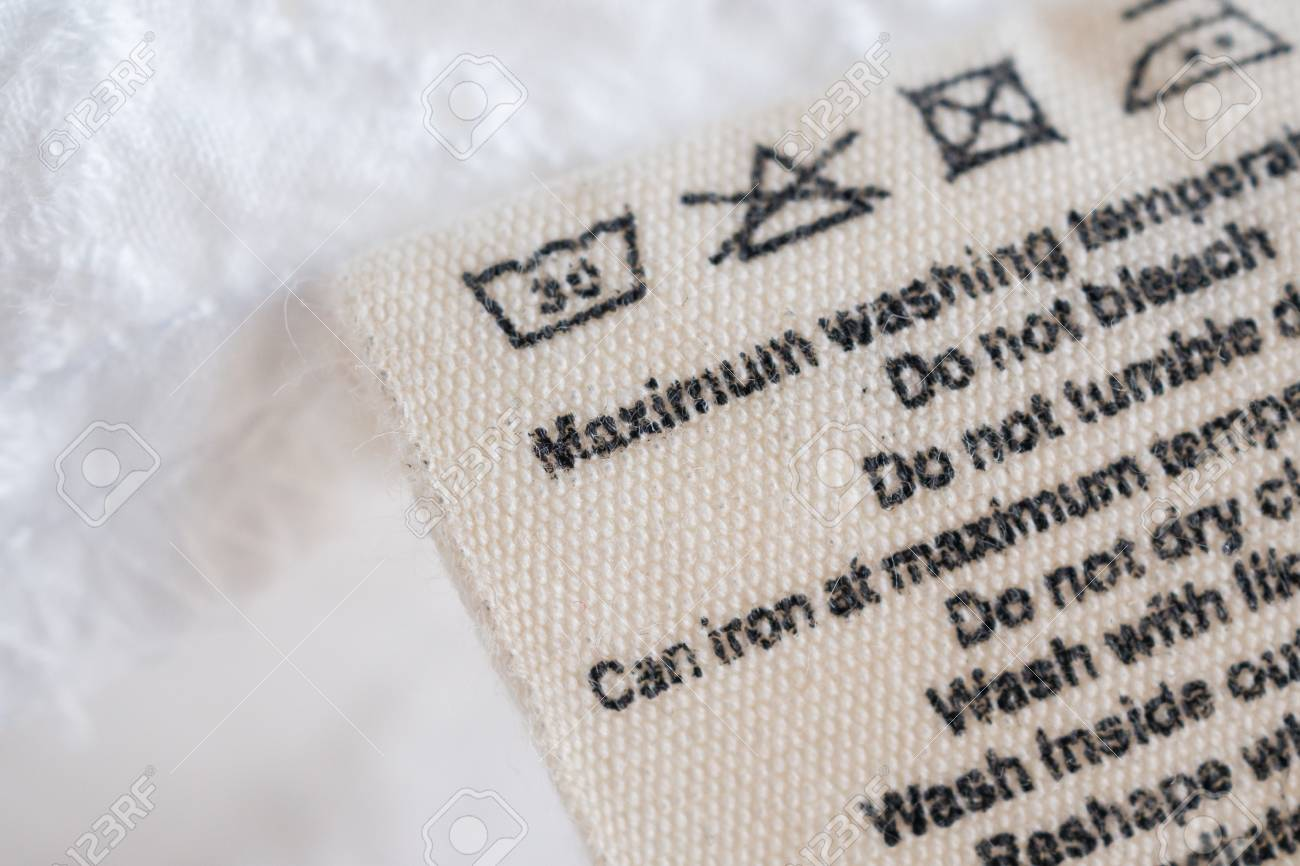do_not_bleach: (707, 141, 877, 261)
